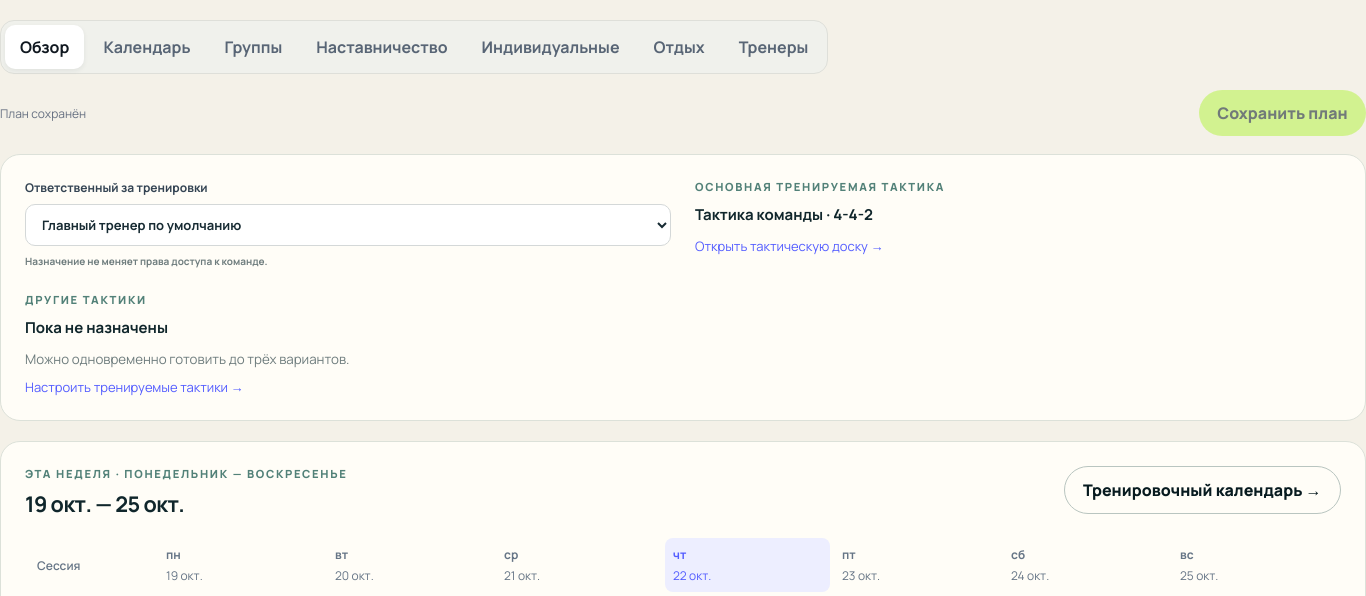
Test: training workspace › shows a failed save without marking the draft as saved
Select "Илья Морозов · главный тренер" in the dropdown labelled "Ответственный за тренировки" at (348,225), box x1=25 y1=204 x2=671 y2=246
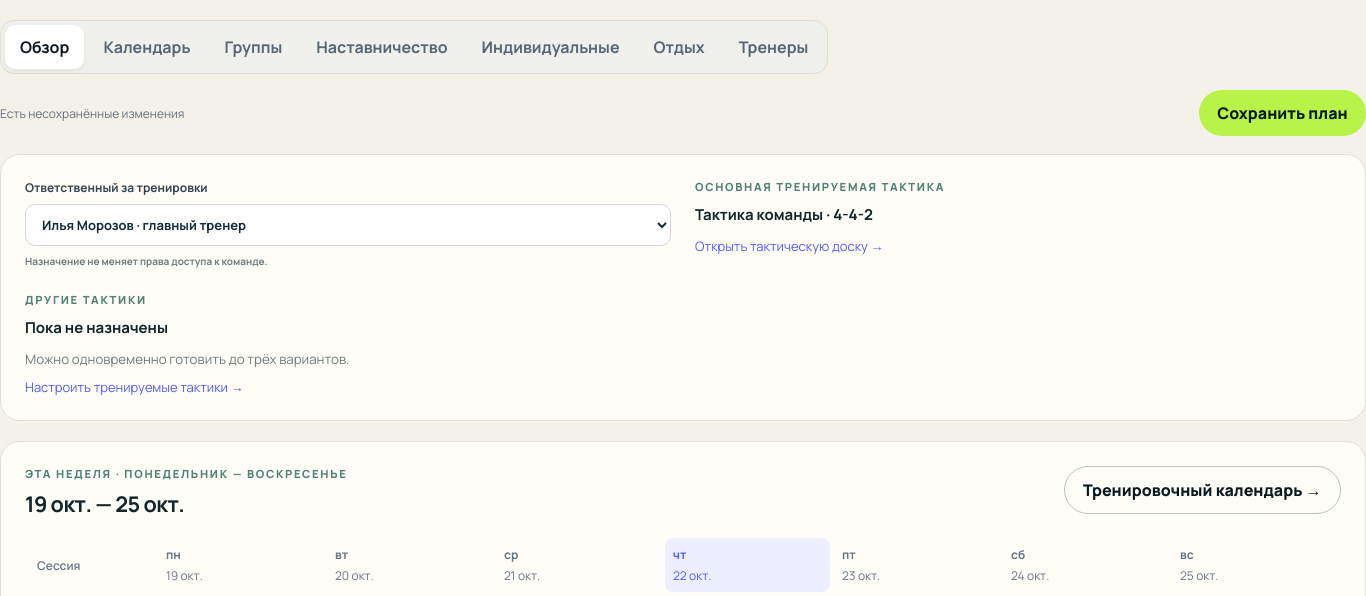
Click the button "Сохранить план" at (1282,113), box x1=1199 y1=90 x2=1365 y2=136
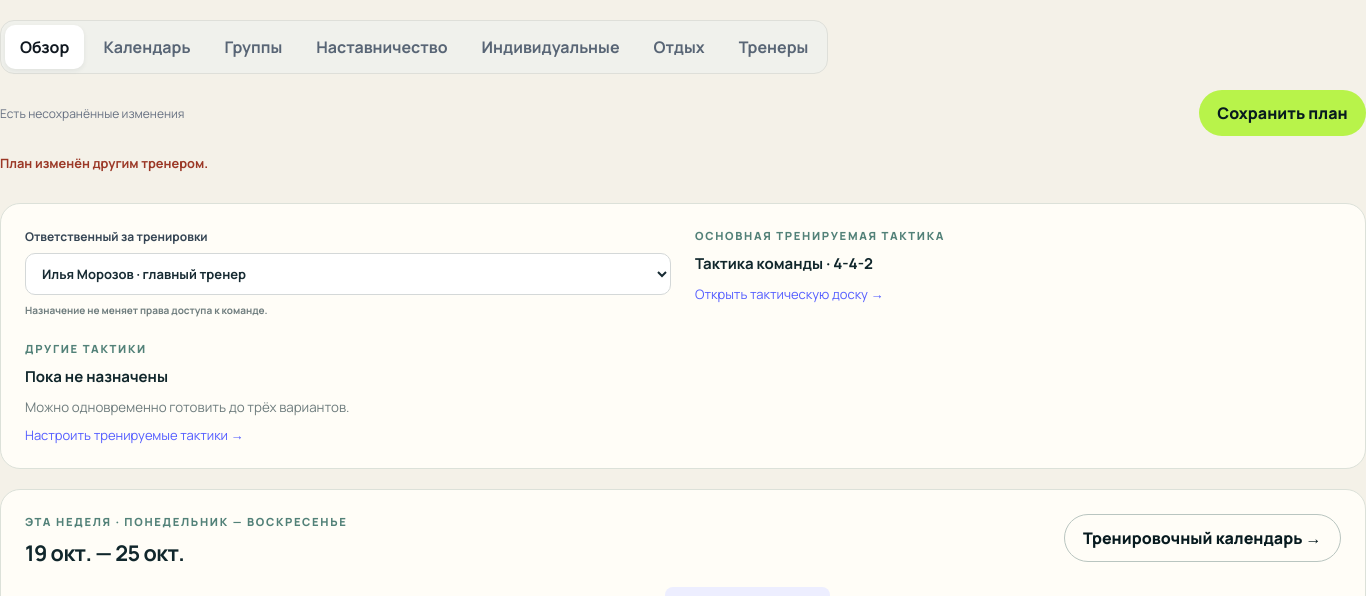
Result: the text "Есть несохранённые изменения" is shown at x1=0 y1=104 x2=184 y2=122
Result: the message "План изменён другим тренером." is shown at x1=0 y1=154 x2=208 y2=172
